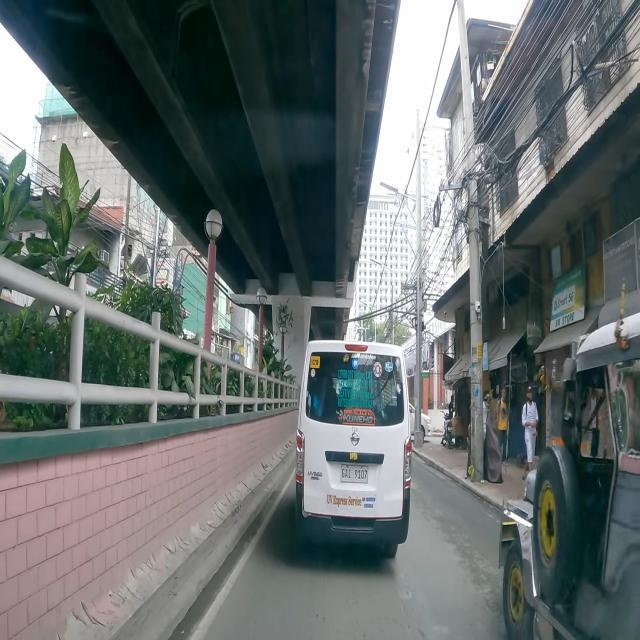car: (294, 340, 412, 558), (406, 399, 431, 442)
jeepney: (500, 312, 640, 640)
motorcycle: (440, 410, 452, 446)
